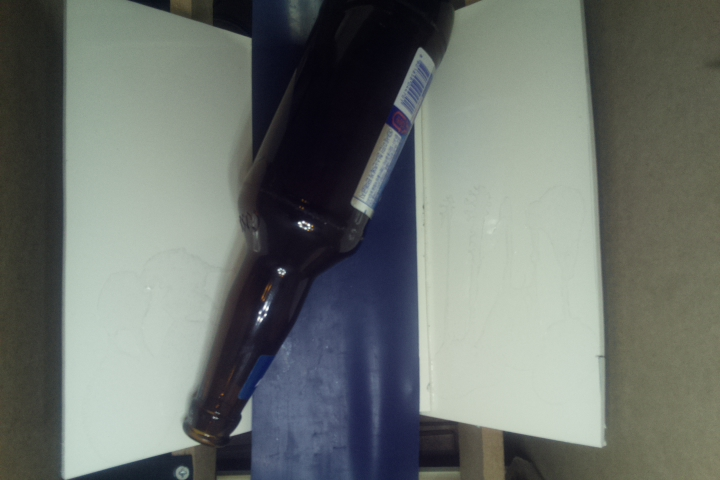makju: (185, 1, 461, 449)
